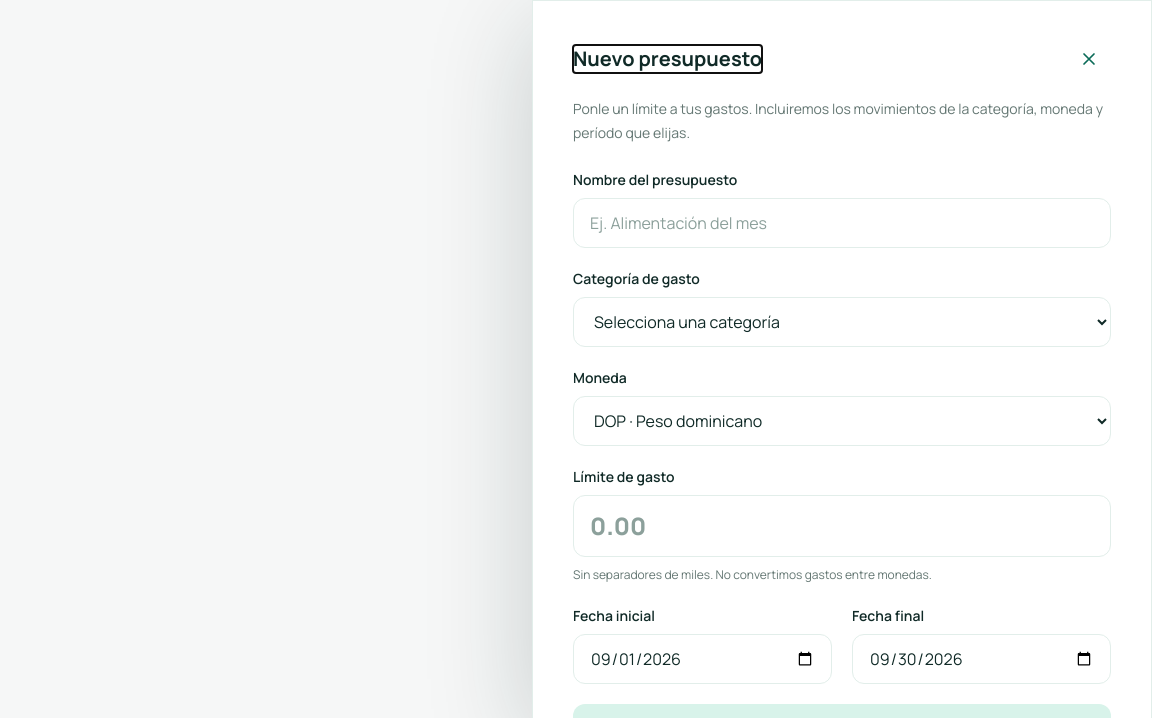
preserves input and request ID after validation errors
The width and height of the screenshot is (1152, 718).
Step 1. Type "Mi límite" into the field labelled "Nombre del presupuesto" → (842, 223), box [573,198,1111,248]
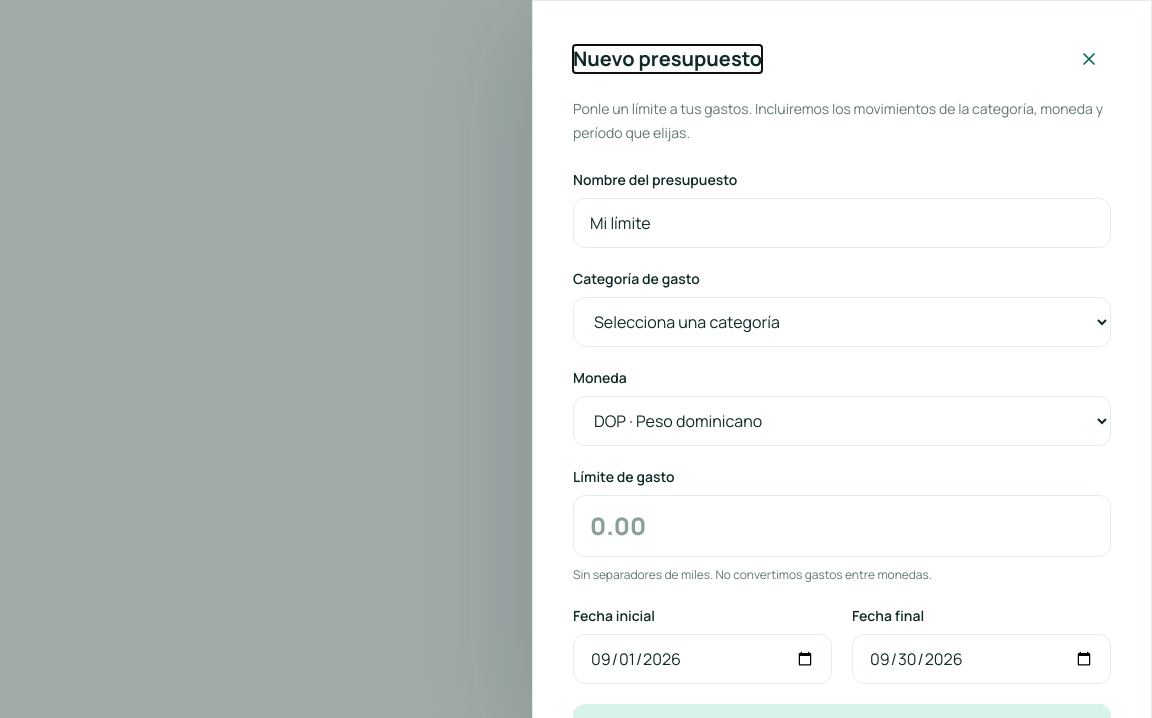
Step 2. Type "-20" into the field labelled "Límite de gasto" → (842, 526), box [573,495,1111,557]
(page scrolled)
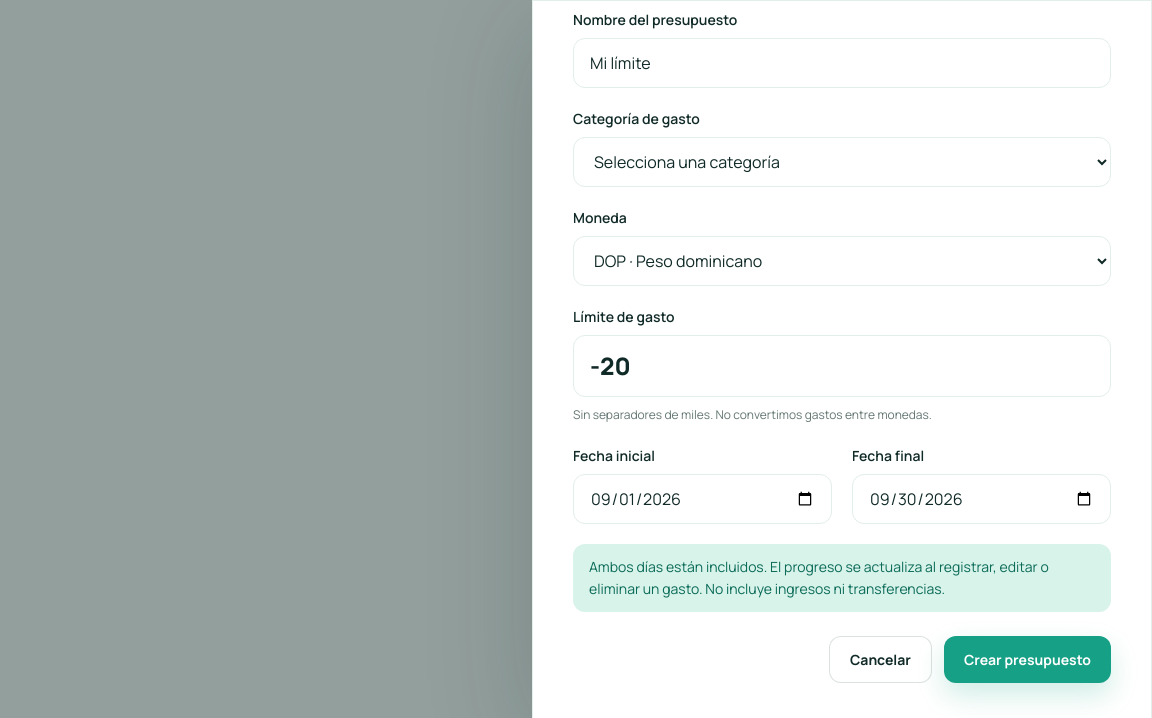
Step 3. Click the button "Crear presupuesto" → (1027, 660), box [944,636,1111,683]
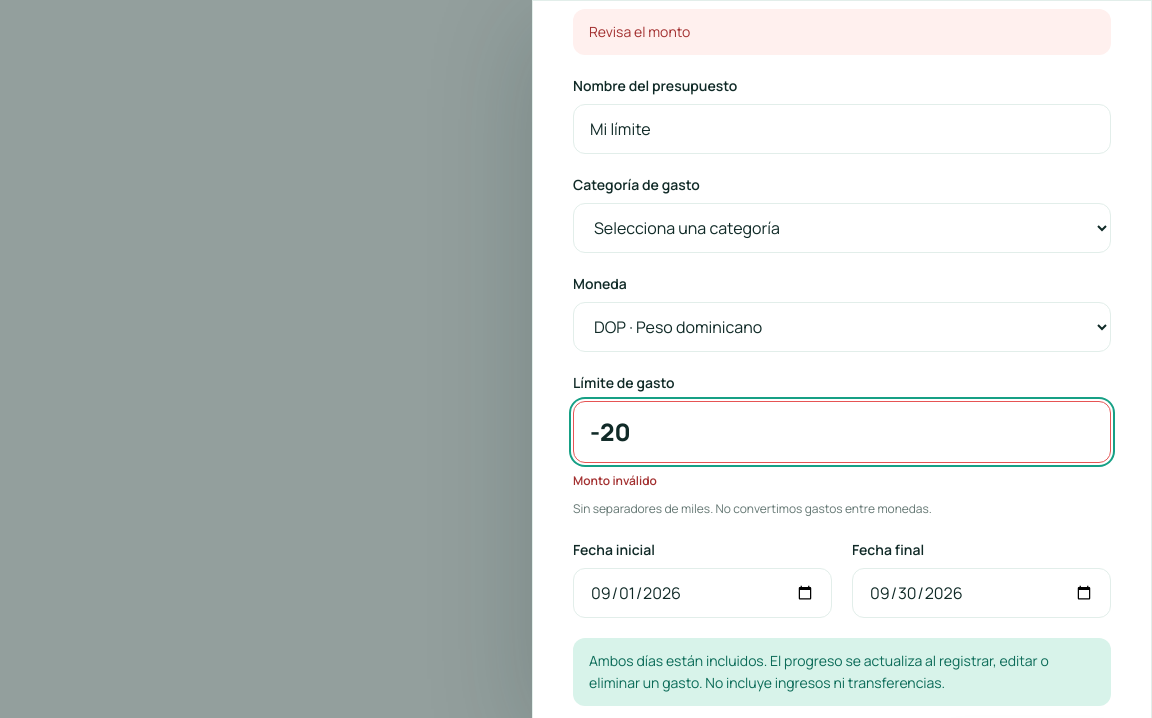
Expected: the text "Monto inválido" is shown, [573,472,657,489]
